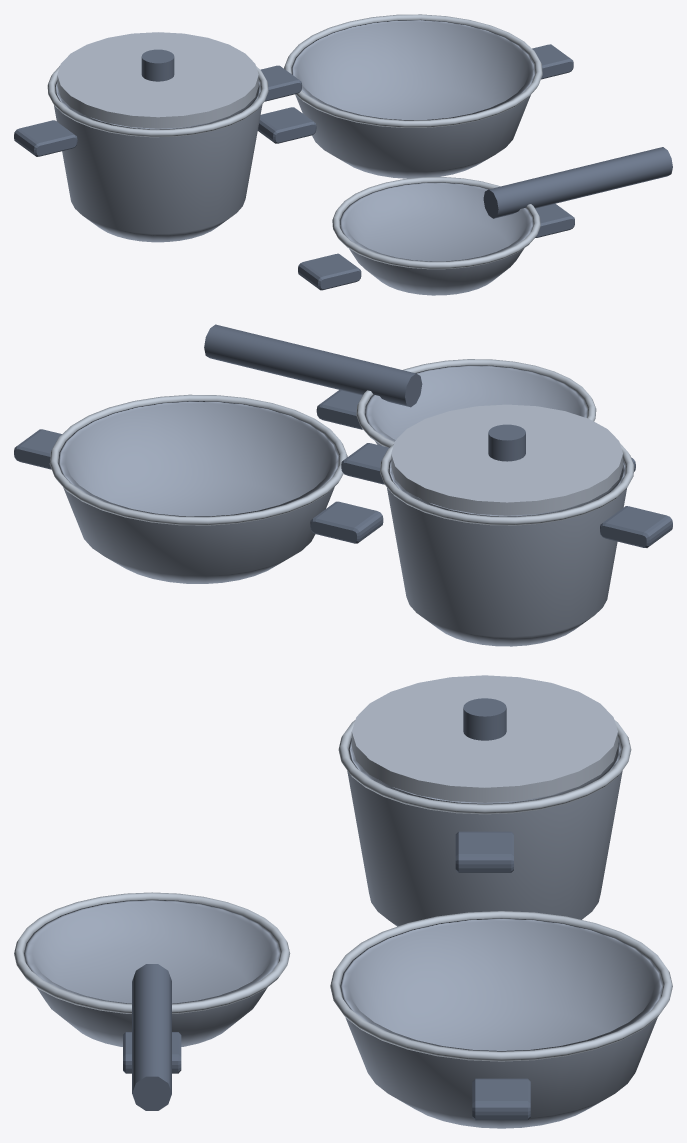
The model's file is cookware-set-lite.glb.
3 views of the same model, one above another, from view 1: azimuth 30°, elevation 25°; view 2: azimuth 150°, elevation 25°; view 3: azimuth 270°, elevation 25° (orthographic). The views are drawn at different scales.
Parts seen in each view (by area): view 1: body, soft, dark, light; view 2: body, soft, dark, light; view 3: body, soft, light, dark.
Boxes of the visible parts, <box> form: body: <box>54,19,535,295</box>; soft: <box>57,32,258,128</box>; dark: <box>14,44,672,290</box>; light: <box>47,14,542,269</box>; body: <box>58,365,626,646</box>; soft: <box>391,404,622,515</box>; dark: <box>14,324,672,547</box>; light: <box>49,359,634,525</box>; body: <box>24,738,662,1128</box>; soft: <box>351,675,617,802</box>; light: <box>14,720,672,1061</box>; dark: <box>123,698,530,1120</box>.
Size of the model in its own units: 0.501 by 0.138 by 0.396.
